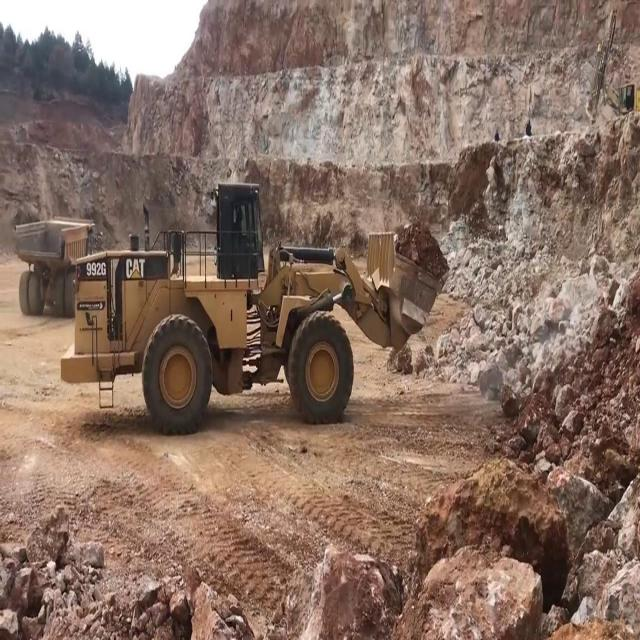Dump Truck: (14, 215, 98, 316)
Loader: (59, 180, 451, 433)
